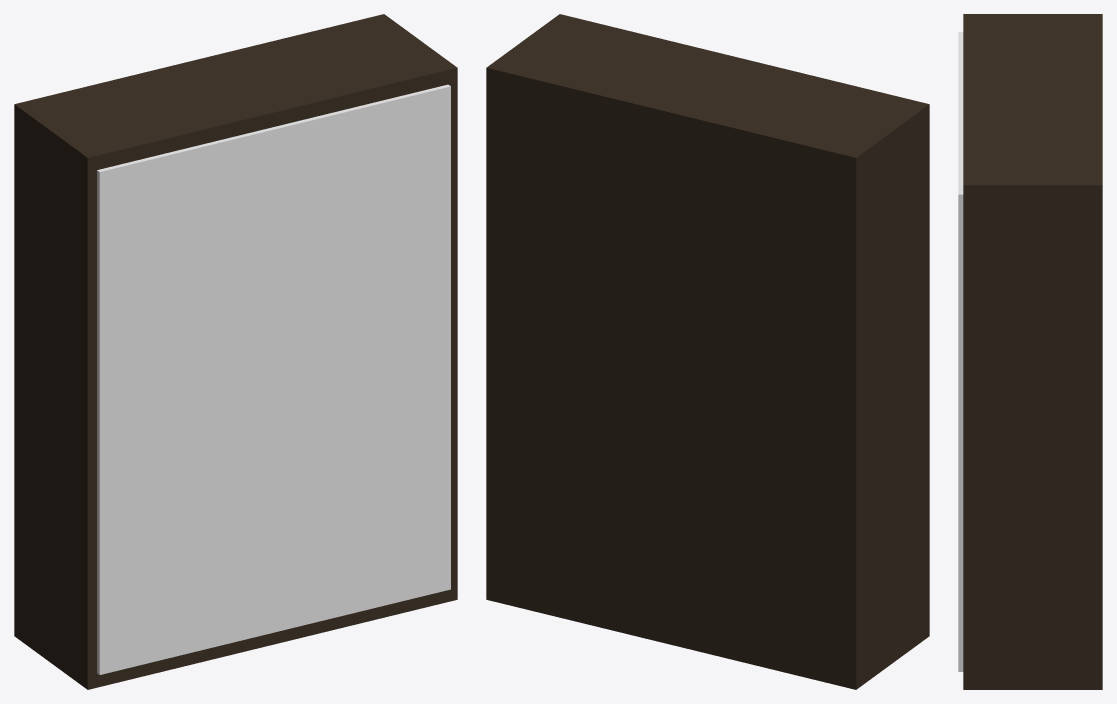
Rendered from archviz_wardrobe_open_walkin.glb.
3 renders of one model, left to right at view 1: azimuth 30°, elevation 25°; view 2: azimuth 150°, elevation 25°; view 3: azimuth 270°, elevation 25°, orthographic. The views are drawn at different scales.
Size of the model in its own units: 1.6 by 2.2 by 0.57.
